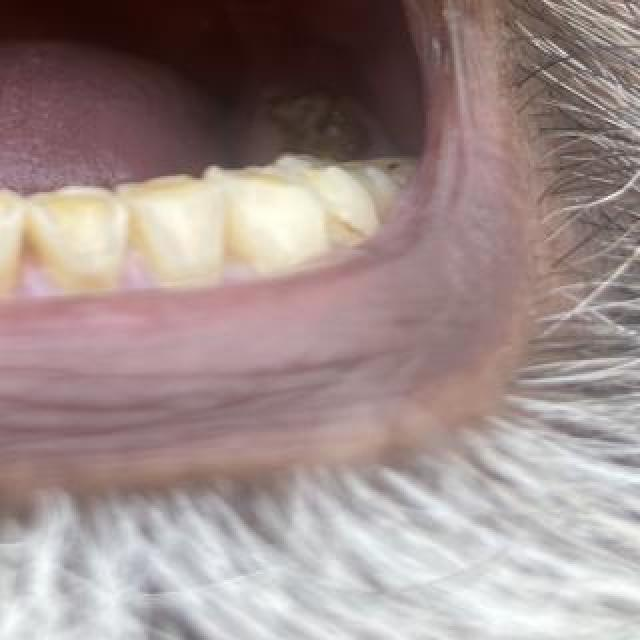stains: (3, 207, 83, 293), (112, 201, 168, 287), (304, 204, 374, 256)
